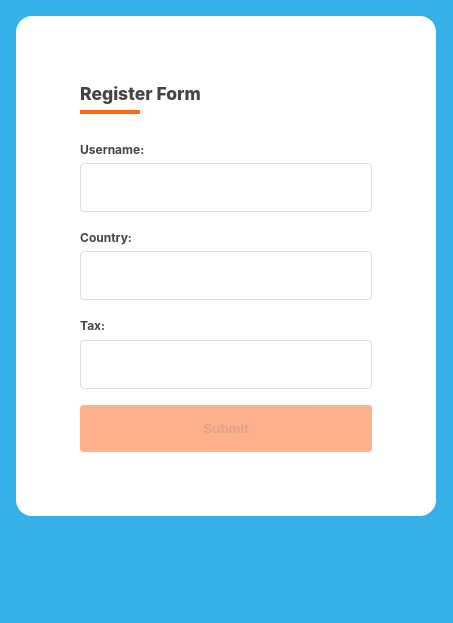
Test: Register Form › Form Submission › Should validate the form without errors
In the field named "username" below "Username:": (226, 188) [80,163,372,212], type "Sarab"
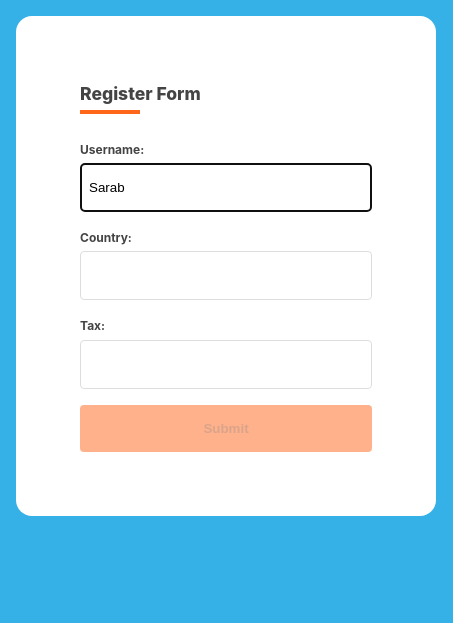
In the field named "country" below "Country:": (226, 276) [80,251,372,300], type "India"
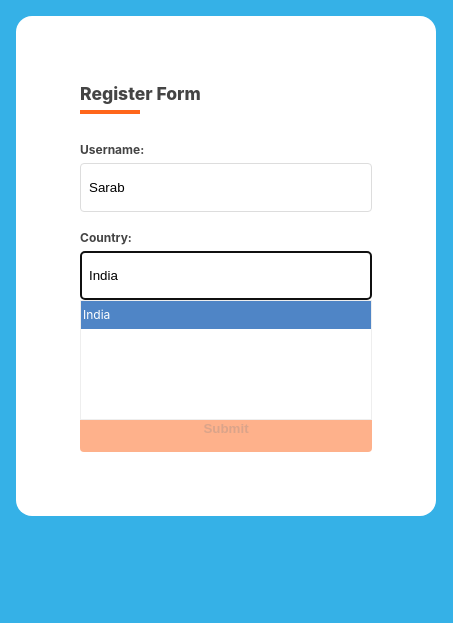
Click the list item "India": (226, 315) [81,301,371,328]
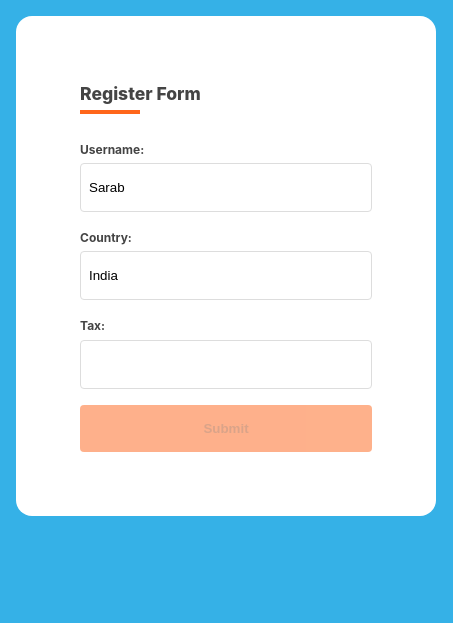
In the field named "tax" below "Tax:": (226, 365) [80,340,372,389], type "DVDPS5219L"
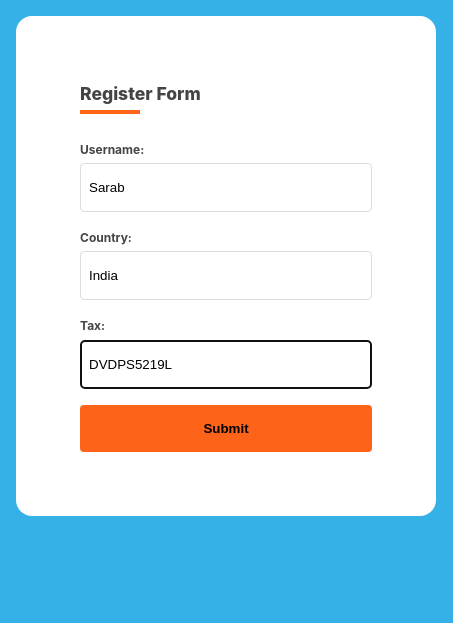
Click the button with id "submitButton": (226, 429) [80,405,372,452]
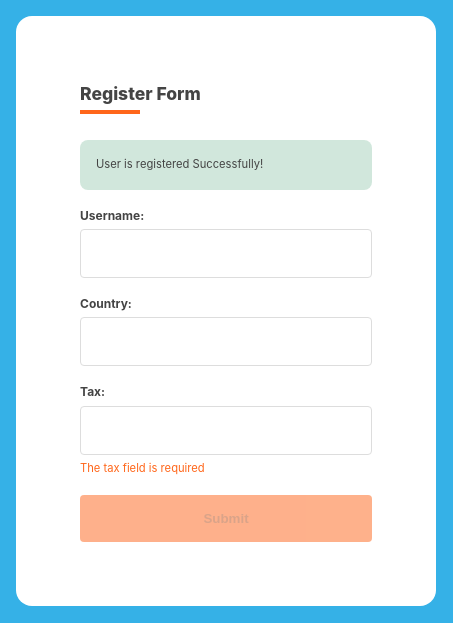
Result: the text "User is registered Successfully!" is shown at [80,140,372,190]
